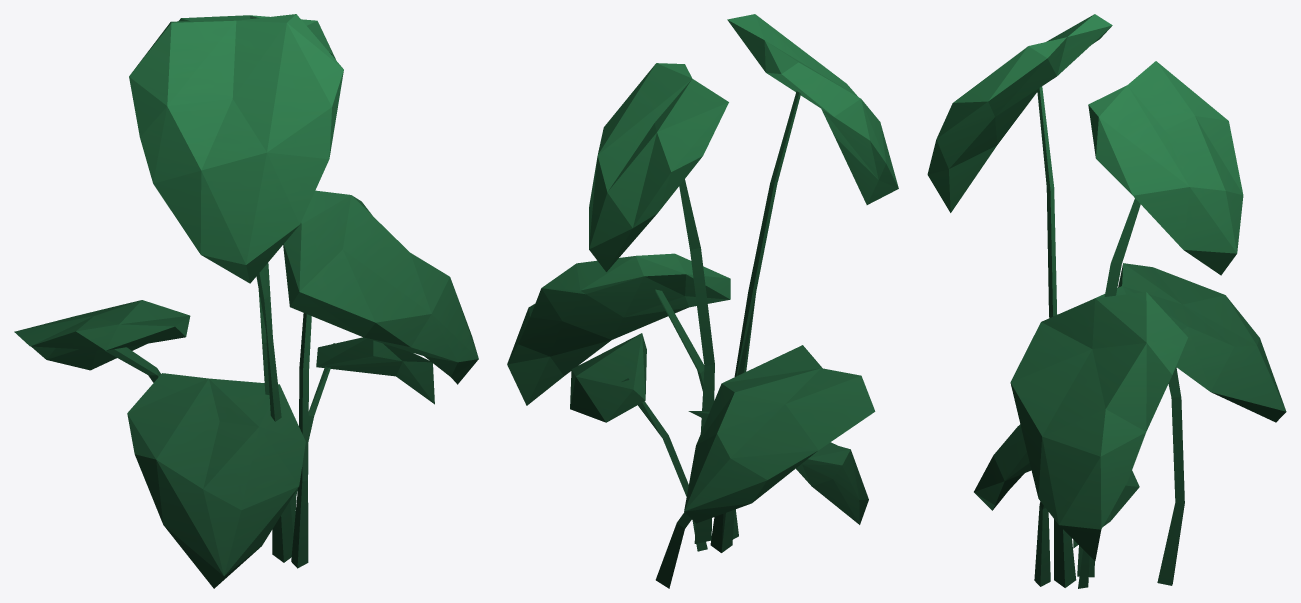
Rendered from ZLP_Grass_D_5.FBX.
The picture shows the model from 3 angles, left to right: view 1: azimuth 30°, elevation 25°; view 2: azimuth 150°, elevation 25°; view 3: azimuth 270°, elevation 25°; orthographic projection. The views are drawn at different scales.
Parts seen in each view (by area): view 1: ZLP_Grass_D_5; view 2: ZLP_Grass_D_5; view 3: ZLP_Grass_D_5.
Boxes of the visible parts, left/top/right/bottom form: ZLP_Grass_D_5: left=14, top=14, right=478, bottom=588; ZLP_Grass_D_5: left=507, top=14, right=898, bottom=588; ZLP_Grass_D_5: left=927, top=14, right=1286, bottom=588.
Size of the model in its own units: 101 by 129 by 79.09.
